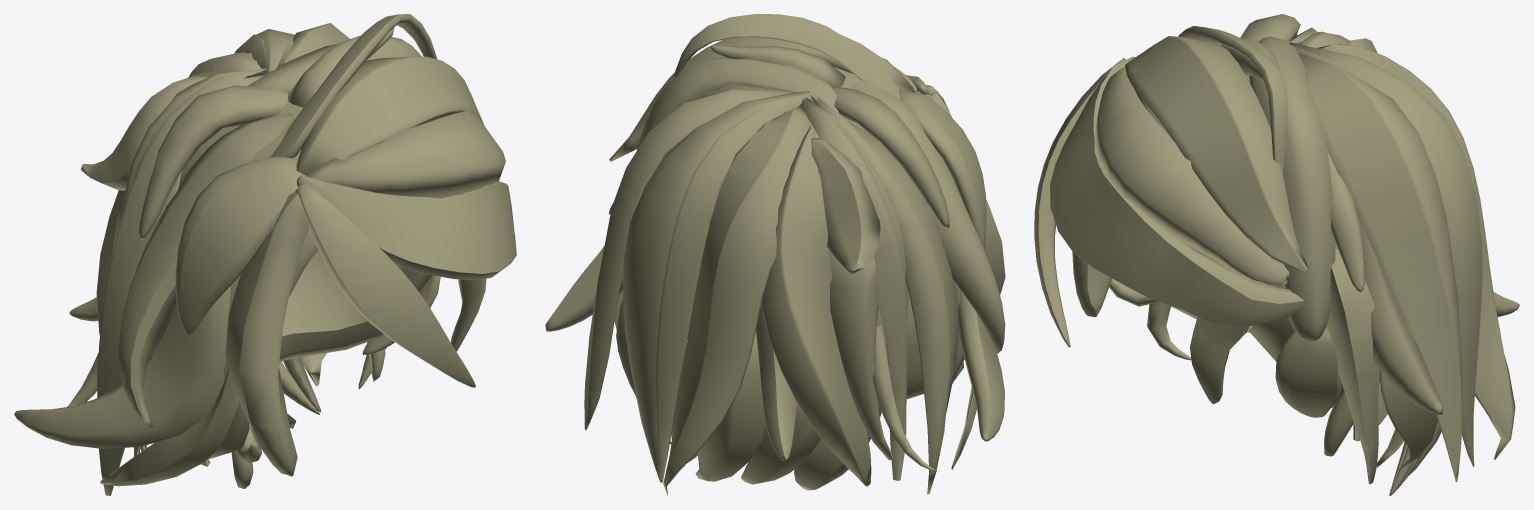
File: SM_Hair_Bob.fbx
The picture shows the model from 3 angles, left to right: view 1: azimuth 30°, elevation 25°; view 2: azimuth 150°, elevation 25°; view 3: azimuth 270°, elevation 25°; orthographic projection. The views are drawn at different scales.
Parts seen in each view (by area): view 1: SM_Hair_Bob; view 2: SM_Hair_Bob; view 3: SM_Hair_Bob.
Part boxes in pixels (x1,y1,x2,y2): SM_Hair_Bob: (14,14,516,495); SM_Hair_Bob: (545,14,1005,495); SM_Hair_Bob: (1034,14,1519,495).
Bounding box in the file's own units: 25.63 × 24.98 × 23.95.
